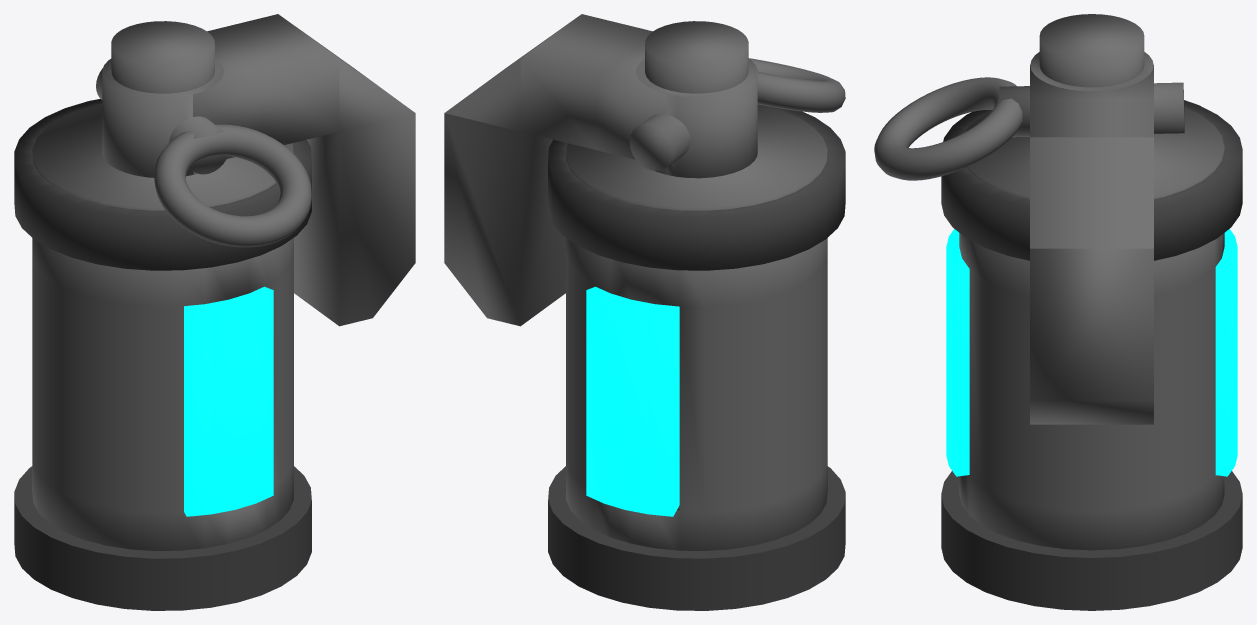
The model's file is grenade.glb.
3 views of the same model, side by side, from view 1: azimuth 30°, elevation 25°; view 2: azimuth 150°, elevation 25°; view 3: azimuth 270°, elevation 25° (orthographic).
Visible parts, largest first — view 1: Cylinder, Cylinder.004, Cylinder.002, Cylinder.003, Cylinder.001, Torus; view 2: Cylinder, Cylinder.004, Cylinder.001, Cylinder.003, Cylinder.002, Torus; view 3: Cylinder, Cylinder.004, Cylinder.002, Cylinder.001, Torus, Cylinder.003.
Part boxes in pixels (left/top/right/bottom): Cylinder: left=32, top=103, right=293, bottom=550; Cylinder.004: left=102, top=14, right=415, bottom=326; Cylinder.002: left=14, top=466, right=311, bottom=610; Cylinder.003: left=184, top=286, right=273, bottom=516; Cylinder.001: left=14, top=99, right=311, bottom=270; Torus: left=96, top=68, right=311, bottom=247; Cylinder: left=566, top=104, right=827, bottom=550; Cylinder.004: left=444, top=14, right=757, bottom=326; Cylinder.001: left=548, top=106, right=845, bottom=270; Cylinder.003: left=586, top=286, right=679, bottom=516; Cylinder.002: left=548, top=466, right=845, bottom=610; Torus: left=629, top=58, right=845, bottom=170; Cylinder: left=959, top=107, right=1224, bottom=550; Cylinder.004: left=1030, top=14, right=1153, bottom=424; Cylinder.002: left=941, top=471, right=1242, bottom=610; Cylinder.001: left=941, top=100, right=1242, bottom=260; Torus: left=874, top=77, right=1184, bottom=180; Cylinder.003: left=946, top=229, right=1237, bottom=476.
Size of the model in its own units: 0.5545 by 0.7628 by 0.4986.
